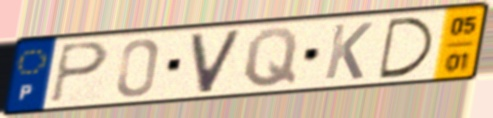0: (113, 36, 161, 99)
D: (376, 15, 437, 82)
K: (321, 20, 376, 82)
P: (48, 40, 111, 107)
Q: (241, 25, 301, 90)
V: (187, 27, 245, 96)
